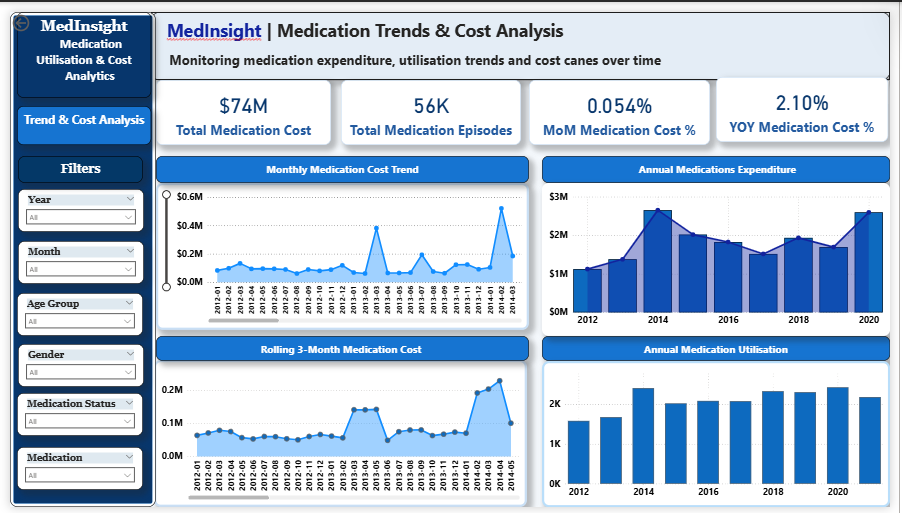

The dashboard page shown, as its layout file describes it:
{"tool":"powerbi","page":{"name":"Medication Trends & Cost analysis","canvas":[1600,900],"ordinal":2},"visuals":[{"type":"textbox","box":[256.4,0,1343.6,123.6],"z":0},{"type":"card","fields":{"Values":["FactMedication.Total Medication Cost"]},"box":[265.5,123.6,318.2,118.2],"z":1000},{"type":"card","fields":{"Values":["FactMedication.Total Medication Episodes"]},"box":[601.8,123.6,327.3,118.2],"z":2000},{"type":"card","fields":{"Values":["FactMedication.MoM Medication Cost %"]},"box":[943.6,123.6,329.1,118.2],"z":3000},{"type":"card","fields":{"Values":["FactMedication.YOY Medication Cost %"]},"box":[1283.6,118.2,312.7,118.2],"z":4000},{"type":"lineChart","fields":{"Y":["FactMedication.Total Medication Cost"],"Category":["DimDate.YearMonth"]},"box":[265.5,310.9,678.2,267.3],"z":5000},{"type":"lineChart","fields":{"Category":["DimDate.YearMonth"],"Y":["FactMedication.Rolling 3M Average Cost"]},"box":[261.8,632.7,678.2,267.3],"z":6000},{"type":"textbox","box":[265.5,261.8,678.2,49.1],"z":7000},{"type":"textbox","box":[967.3,261.8,632.7,49.1],"z":8000},{"type":"textbox","box":[265.5,589.1,678.2,45.5],"z":9000},{"type":"textbox","box":[967.3,589.1,632.7,45.5],"z":10000},{"type":"shape","box":[0,0,265.5,900],"z":11000},{"type":"slicer","fields":{"Values":["DimDate.Year"]},"box":[14.5,321.8,229.1,78.2],"z":12000},{"type":"slicer","fields":{"Values":["DimDate.Month"]},"box":[14.5,416.4,229.1,78.2],"z":13000},{"type":"slicer","fields":{"Values":["DimPatient.Age Group"]},"box":[12.7,510.9,229.1,78.2],"z":14000},{"type":"slicer","fields":{"Values":["DimPatient.GENDER"]},"box":[14.5,603.6,229.1,78.2],"z":15000},{"type":"slicer","fields":{"Values":["FactMedication.Medication_status"]},"box":[12.7,692.7,229.1,78.2],"z":16000},{"type":"slicer","fields":{"Values":["DimMedication.DESCRIPTION"]},"box":[12.7,790.9,229.1,78.2],"z":17000},{"type":"textbox","box":[14.5,261.8,227.3,49.1],"z":18000},{"type":"textbox","box":[12.7,0,243.6,156.4],"z":19000},{"type":"textbox","box":[12.7,170.9,243.6,70.9],"z":20000},{"type":"actionButton","box":[0,0,100,40],"z":21000},{"type":"clusteredColumnChart","fields":{"Y":["FactMedication.Total Medication Episodes"],"Category":["DimDate.Year"]},"box":[967,634,633,266],"z":22000},{"type":"lineClusteredColumnComboChart","fields":{"Category":["DimDate.Year"],"Y":["FactMedication.Total Medication Cost"],"Y2":["FactMedication.Total Medication Cost"]},"box":[967.3,310.9,632.7,278.2],"z":23000}]}

Visuals, with their boxes in screenshot pixels (x1, y1, x2, y2), scaled from the page's 1600x900 canvas onto the 902x513 screenshot:
textbox: (left=145, top=0, right=901, bottom=70)
card - FactMedication.Total Medication Cost: (left=150, top=70, right=329, bottom=138)
card - FactMedication.Total Medication Episodes: (left=339, top=70, right=524, bottom=138)
card - FactMedication.MoM Medication Cost %: (left=532, top=70, right=717, bottom=138)
card - FactMedication.YOY Medication Cost %: (left=724, top=67, right=900, bottom=135)
lineChart - FactMedication.Total Medication Cost x DimDate.YearMonth: (left=150, top=177, right=532, bottom=330)
lineChart - DimDate.YearMonth x FactMedication.Rolling 3M Average Cost: (left=148, top=361, right=530, bottom=512)
textbox: (left=150, top=149, right=532, bottom=177)
textbox: (left=545, top=149, right=901, bottom=177)
textbox: (left=150, top=336, right=532, bottom=362)
textbox: (left=545, top=336, right=901, bottom=362)
shape: (left=0, top=0, right=150, bottom=512)
slicer - DimDate.Year: (left=8, top=183, right=137, bottom=228)
slicer - DimDate.Month: (left=8, top=237, right=137, bottom=282)
slicer - DimPatient.Age Group: (left=7, top=291, right=136, bottom=336)
slicer - DimPatient.GENDER: (left=8, top=344, right=137, bottom=389)
slicer - FactMedication.Medication_status: (left=7, top=395, right=136, bottom=439)
slicer - DimMedication.DESCRIPTION: (left=7, top=451, right=136, bottom=495)
textbox: (left=8, top=149, right=136, bottom=177)
textbox: (left=7, top=0, right=144, bottom=89)
textbox: (left=7, top=97, right=144, bottom=138)
actionButton: (left=0, top=0, right=56, bottom=23)
clusteredColumnChart - FactMedication.Total Medication Episodes x DimDate.Year: (left=545, top=361, right=901, bottom=512)
lineClusteredColumnComboChart - DimDate.Year x FactMedication.Total Medication Cost: (left=545, top=177, right=901, bottom=336)
